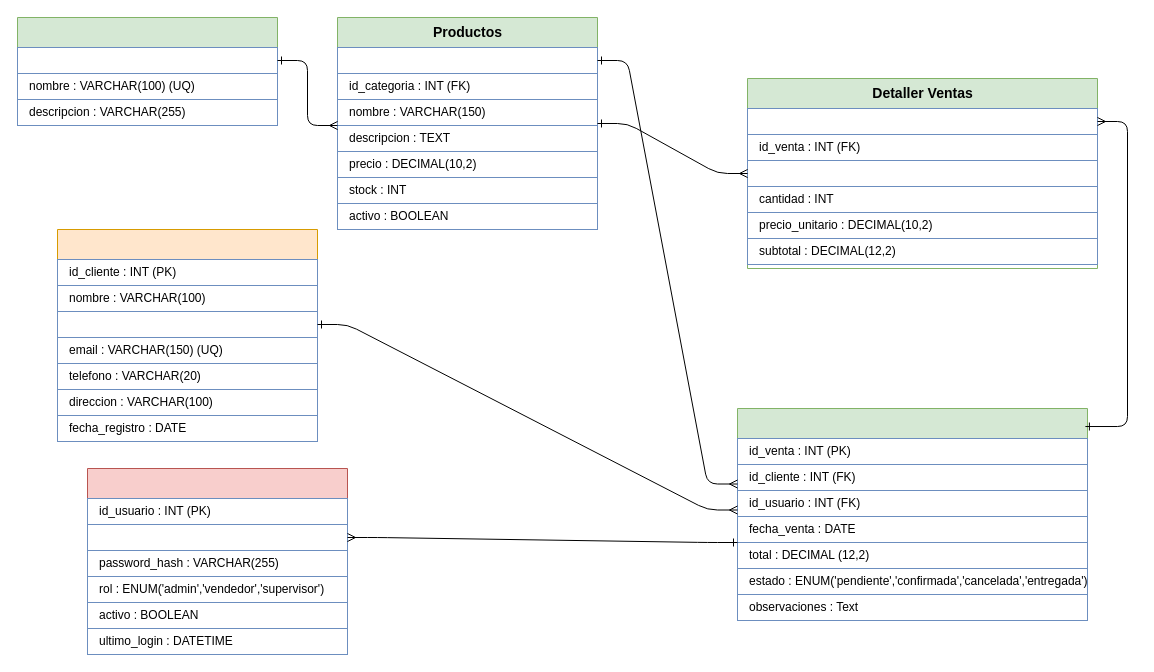
This 1154x672 diagram has some shape labels left out. The shapes that lost their labels are listed below. From the top down, each one's box as (x1, y1, x2, y2) in pixels, then its label:
(16, 46, 278, 74): id_categoria : INT (PK)
(16, 16, 278, 126): Categorias
(336, 46, 598, 74): id_producto : INT (PK)
(746, 108, 1098, 134): id_detalle : INT (PK)
(746, 160, 1098, 186): id_producto : INT (FK)
(56, 310, 318, 338): apellido : VARCHAR(100)
(56, 228, 318, 442): Clientes
(736, 408, 1088, 620): Ventas
(86, 524, 348, 550): username : VARCHAR(50) (UQ)
(86, 468, 348, 654): Usuarios
